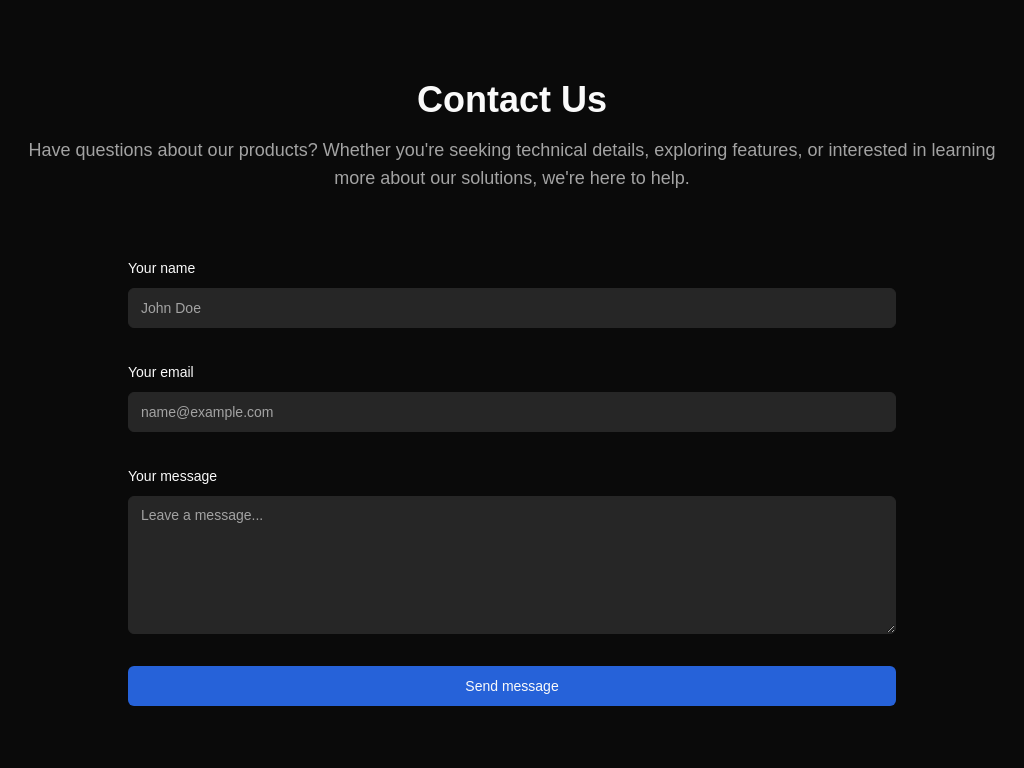
Scenario: ContactForm Component › shows validation errors for empty fields
Click the button with test id "send-button" at (512, 686), box x1=128 y1=666 x2=896 y2=706
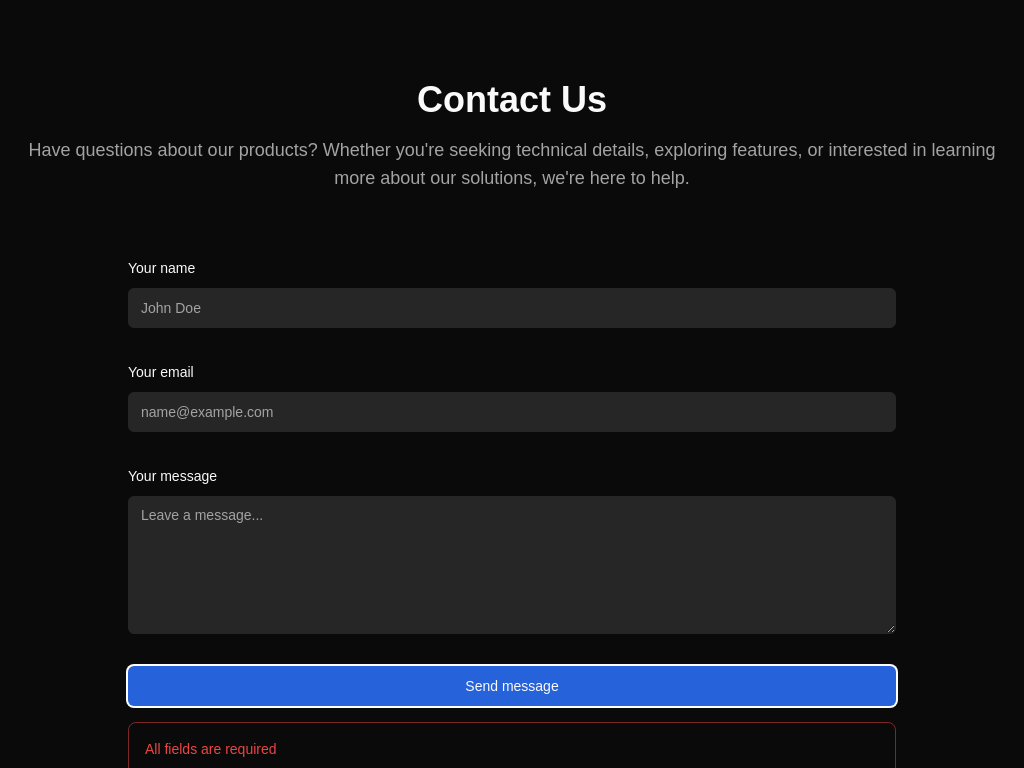
Check: the text "All fields are required" is shown, box x1=145 y1=741 x2=276 y2=757
